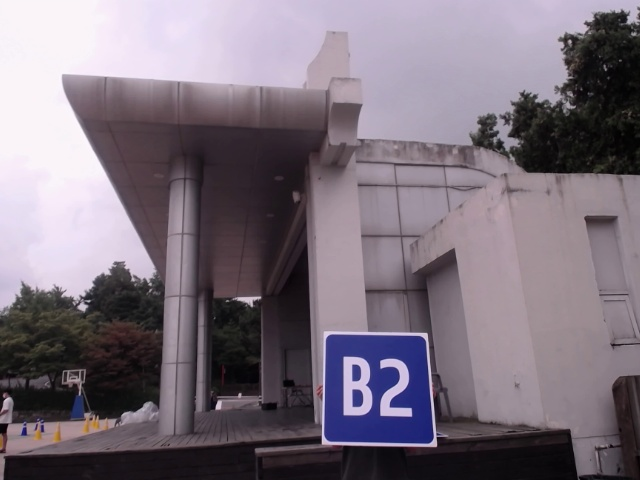delivery_b2: (324, 334, 435, 444)
